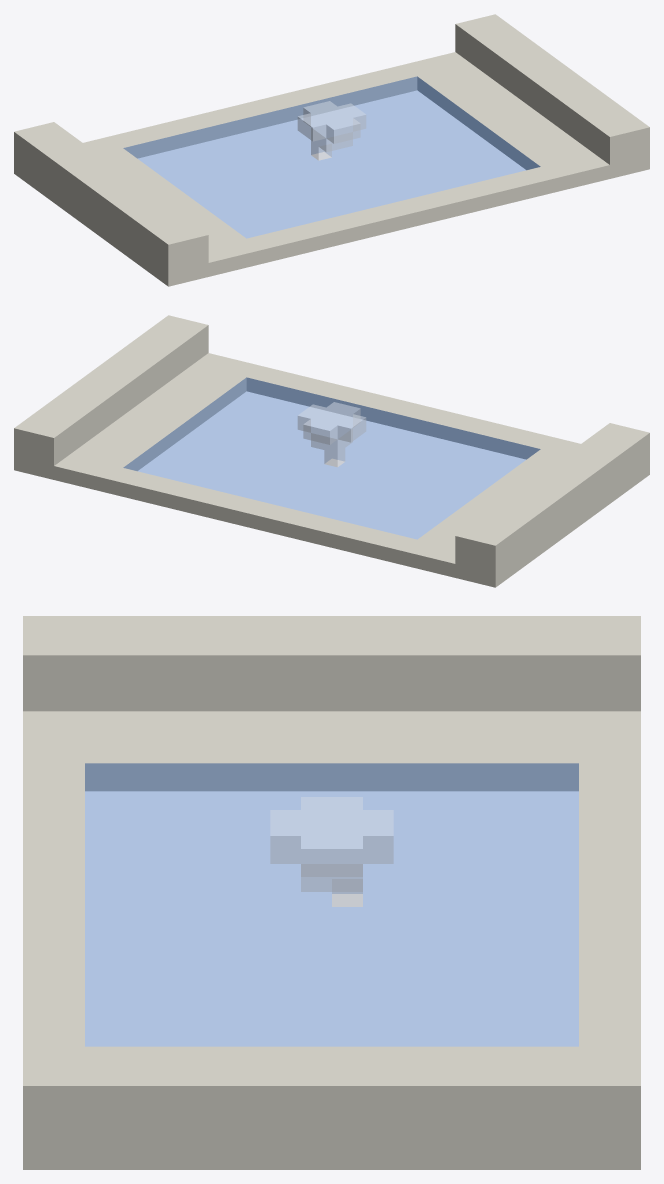
File: diamond.glb
3 views of the same model, one above another, from view 1: azimuth 30°, elevation 25°; view 2: azimuth 150°, elevation 25°; view 3: azimuth 270°, elevation 25° (orthographic). The views are drawn at different scales.
Parts seen in each view (by area): view 1: diamond:compound; view 2: diamond:compound; view 3: diamond:compound.
Boxes of the visible parts, x1,y1,x2,y2 form: diamond:compound: [14, 14, 649, 286]; diamond:compound: [14, 315, 649, 587]; diamond:compound: [23, 616, 640, 1169].
Size of the model in its own units: 0.072 by 0.008 by 0.04.
